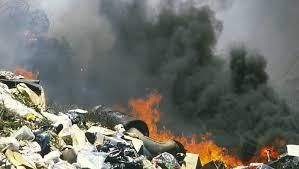fire: (121, 89, 265, 169), (13, 64, 37, 78)
